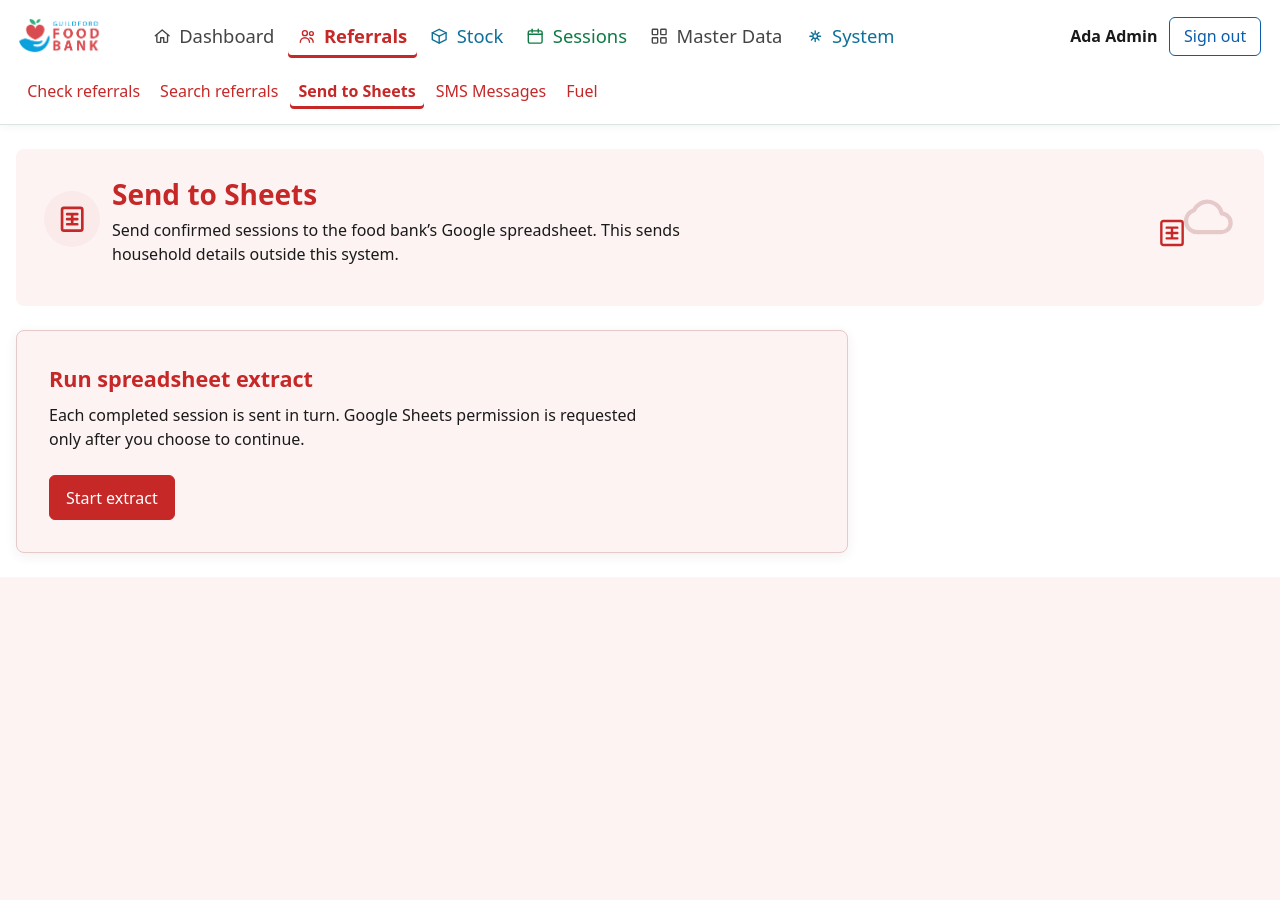
Test: spreadsheet extract › pauses after twenty completed sessions
The image size is (1280, 900).
Click the button "Start extract" at coordinates (112, 498), box [49,475,175,520]
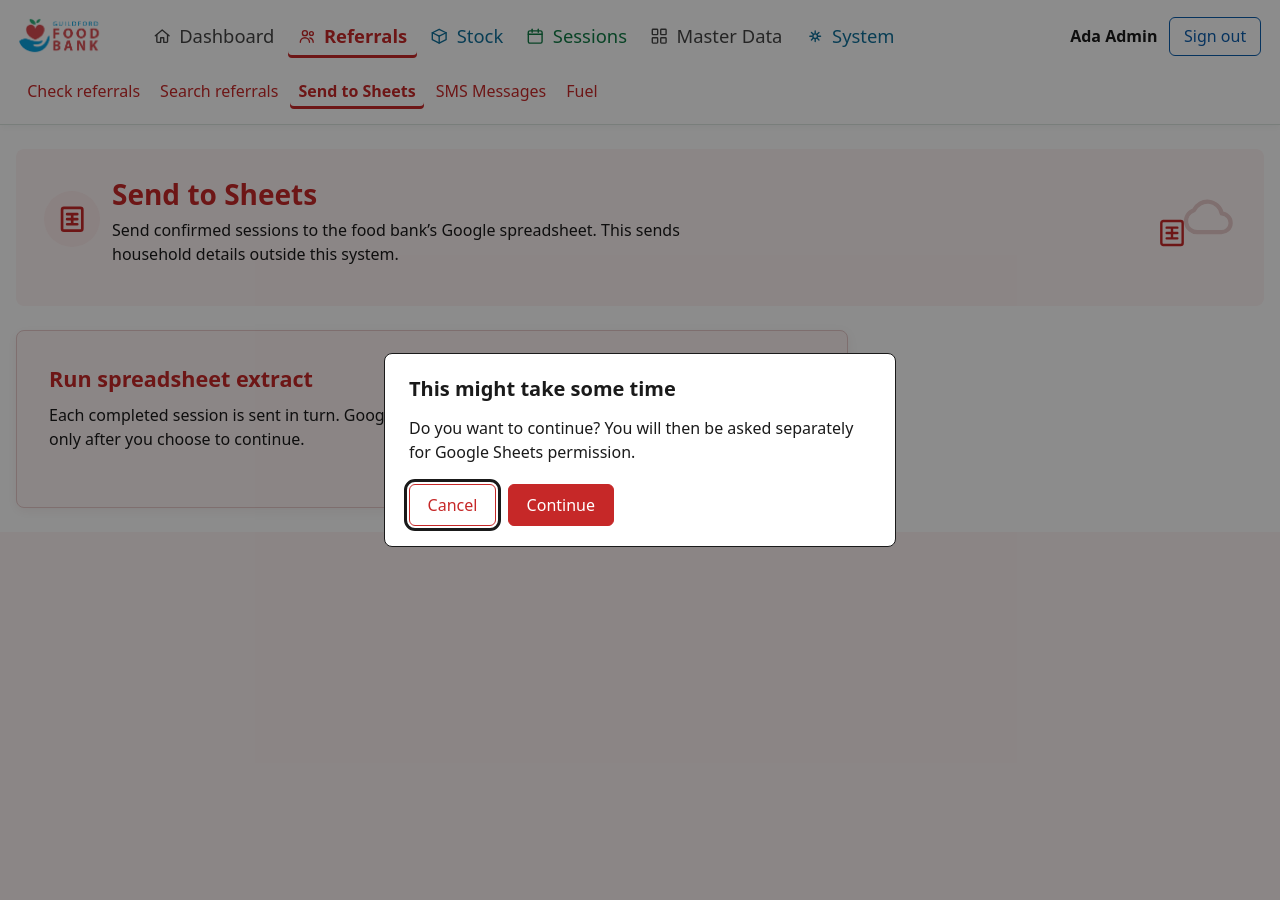
Click the button "Continue" at coordinates (561, 505), box [508,484,614,526]
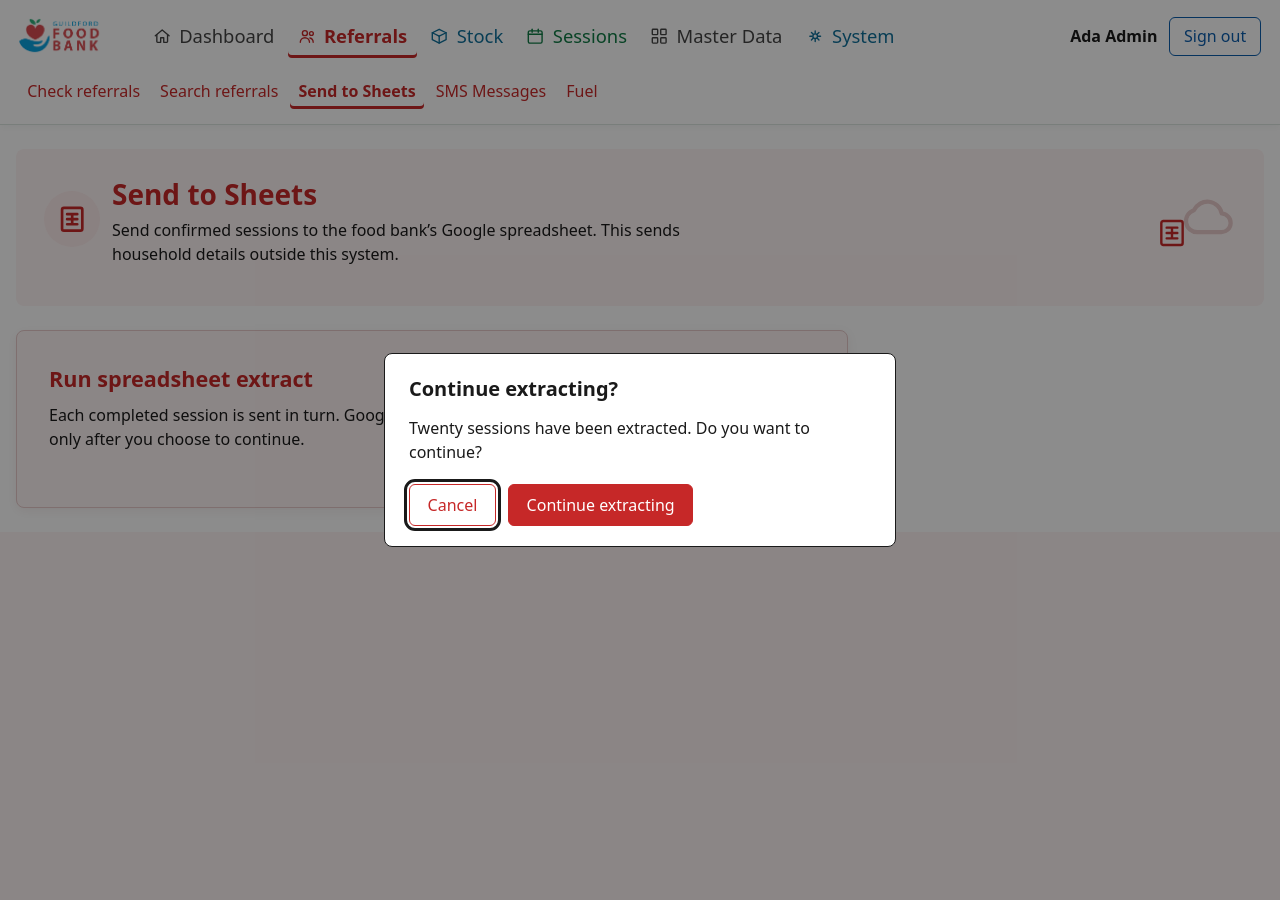
Check: the dialog "Continue extracting?" shows "Twenty sessions have been extracted", box [409,417,810,463]
